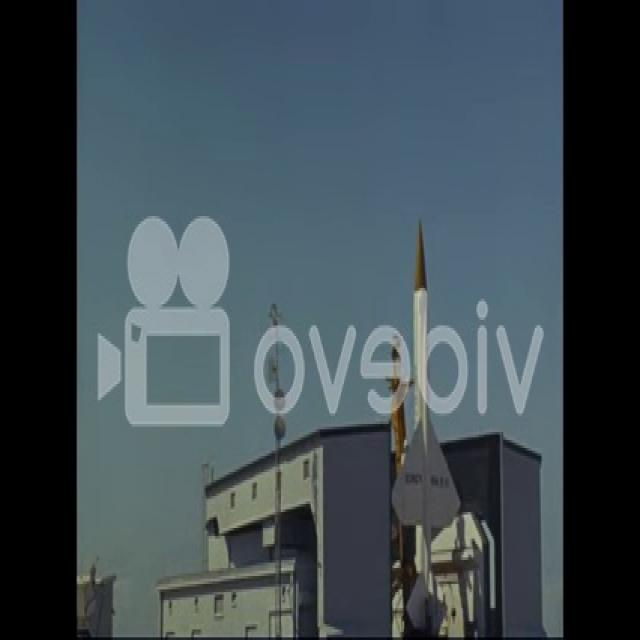rocket: (388, 239, 456, 561)
